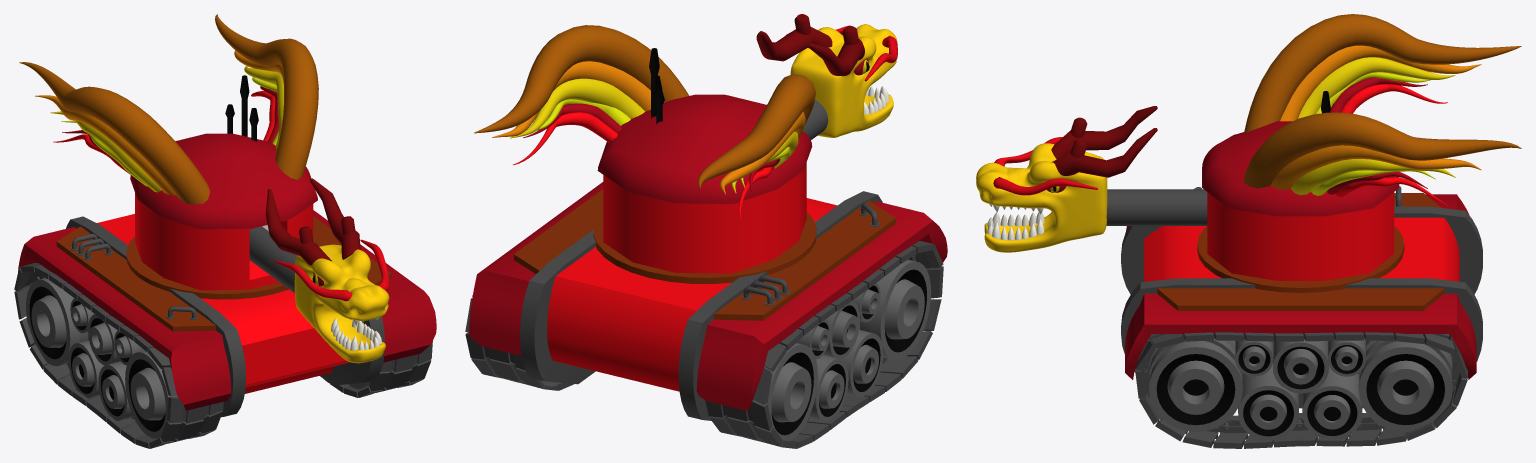
The model's file is tankEasterEgg.fbx.
3 renders of one model, left to right at view 1: azimuth 30°, elevation 25°; view 2: azimuth 150°, elevation 25°; view 3: azimuth 270°, elevation 25°, orthographic. The views are drawn at different scales.
Visible parts, largest first — view 1: Base, tankGun; view 2: Base, tankGun; view 3: Base, tankGun.
Boxes of the visible parts, <box> form: Base: <box>14,210,436,448</box>; tankGun: <box>19,14,389,363</box>; Base: <box>465,182,947,448</box>; tankGun: <box>474,14,897,273</box>; Base: <box>1121,186,1482,448</box>; tankGun: <box>976,14,1521,280</box>.
Size of the model in its own units: 984 by 1067 by 1674.
